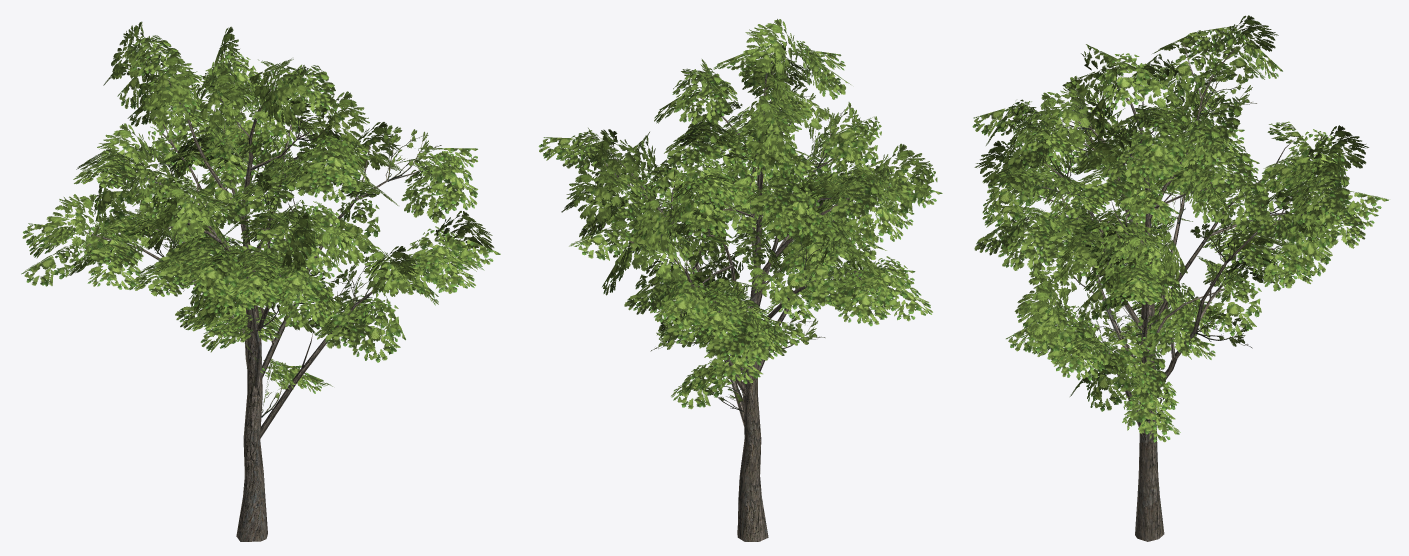
The model's file is tree2a_lod1.obj.
3 renders of one model, left to right at view 1: azimuth 30°, elevation 25°; view 2: azimuth 150°, elevation 25°; view 3: azimuth 270°, elevation 25°, orthographic.
Visible parts, largest first — view 1: polySurface1624, polySurface1399; view 2: polySurface1624, polySurface1399; view 3: polySurface1624, polySurface1399.
Boxes of the visible parts, bbox=[...] form: polySurface1624: bbox=[21, 21, 500, 417]; polySurface1399: bbox=[81, 70, 424, 541]; polySurface1624: bbox=[538, 19, 942, 411]; polySurface1399: bbox=[604, 52, 914, 541]; polySurface1624: bbox=[972, 15, 1388, 442]; polySurface1399: bbox=[1022, 42, 1305, 541].
Bounding box in the file's own units: 16.53 × 18.67 × 14.46.
